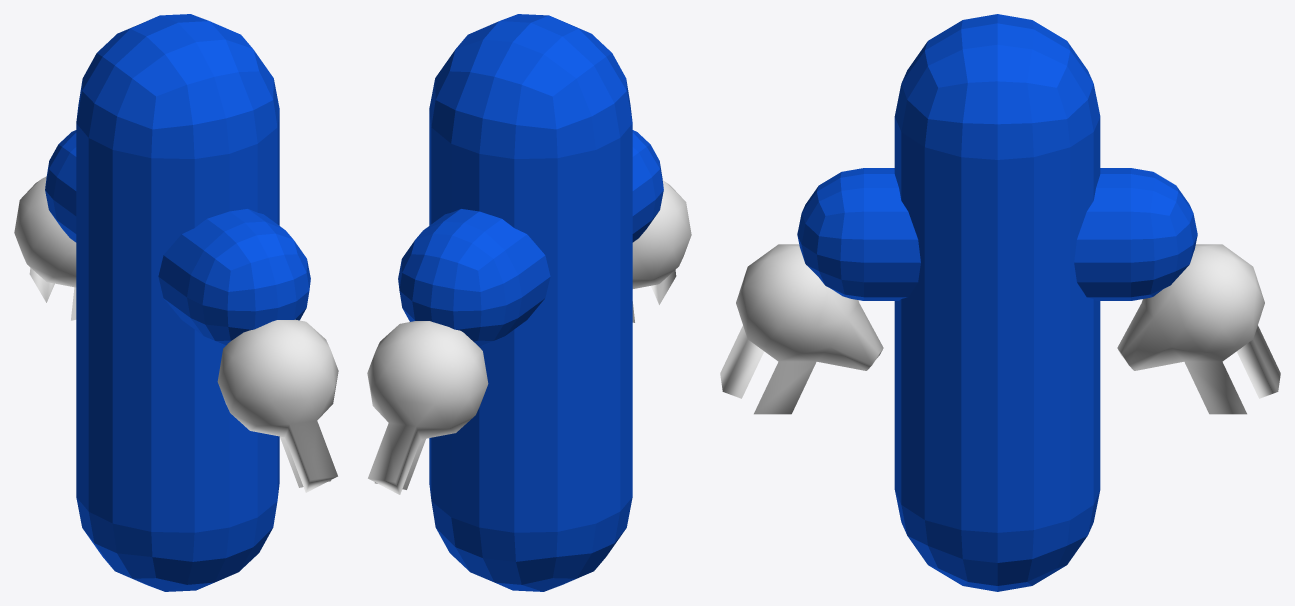
The model's file is Player 2.glb.
The picture shows the model from 3 angles, left to right: view 1: azimuth 30°, elevation 25°; view 2: azimuth 150°, elevation 25°; view 3: azimuth 270°, elevation 25°; orthographic projection.
Visible parts, largest first — view 1: cactus_geometry.002, Icosphere (×2); view 2: cactus_geometry.002, Icosphere (×2); view 3: cactus_geometry.002, Icosphere (×2).
Boxes of the visible parts, box(x1,y1,x2,y2) form: cactus_geometry.002: box(45, 14, 310, 591); Icosphere (×2): box(14, 176, 338, 492); cactus_geometry.002: box(398, 14, 663, 591); Icosphere (×2): box(367, 180, 691, 494); cactus_geometry.002: box(797, 14, 1197, 591); Icosphere (×2): box(720, 244, 1280, 414).
Bounding box in the file's own units: 0.6663 × 2 × 1.82.
